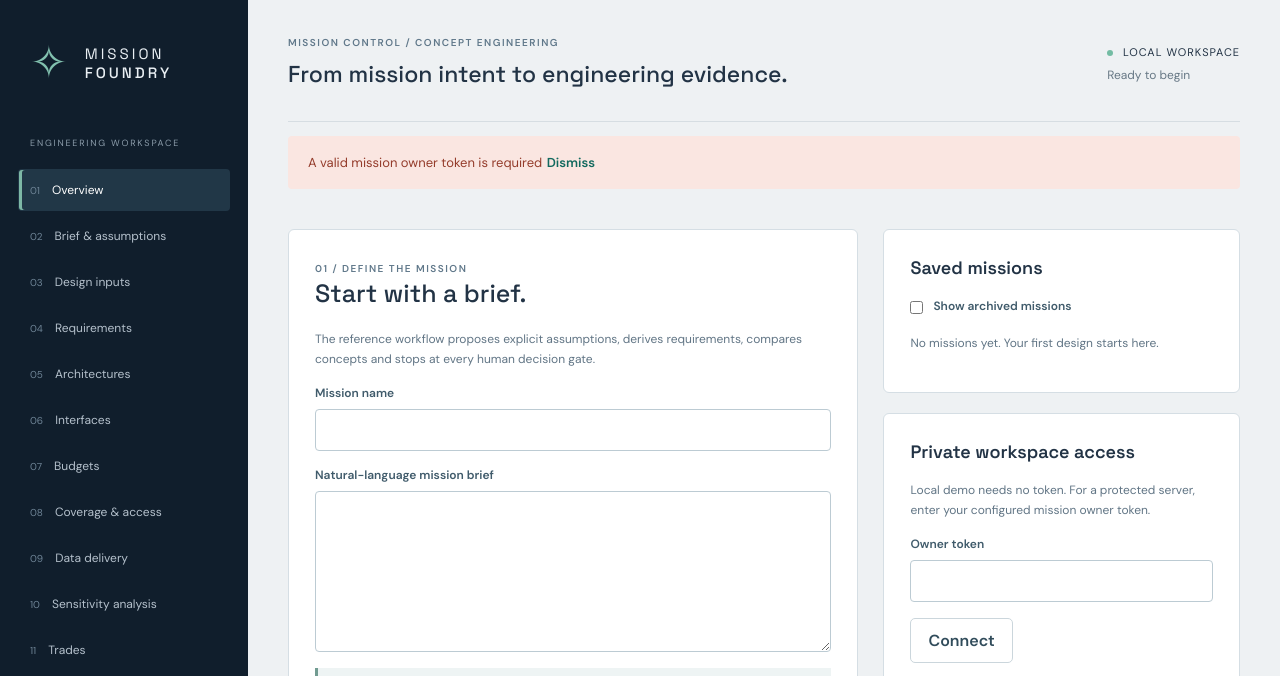
Test case: server errors are actionable and dismissible
Expected: the message shows "mission owner token", [308,154,542,171]
Click the button "Dismiss" at [571, 162], box [546,150,596,175]
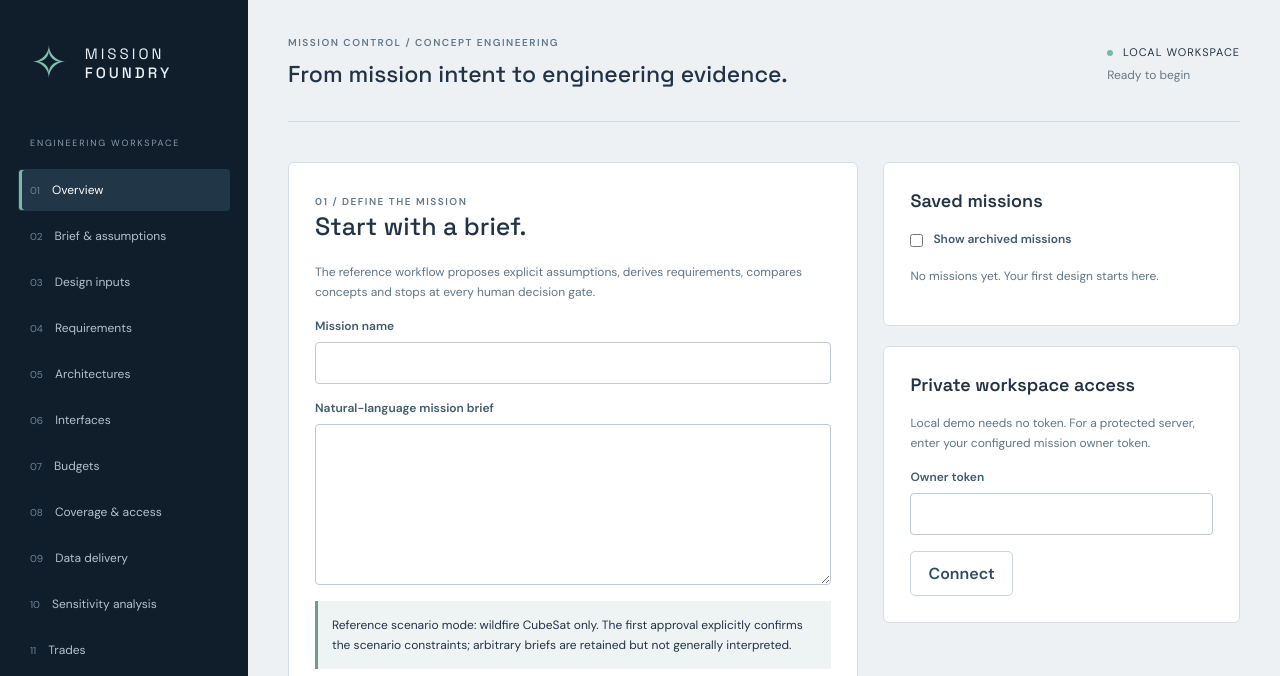
Expected: the message "A valid mission owner token is required Dismiss" is gone
